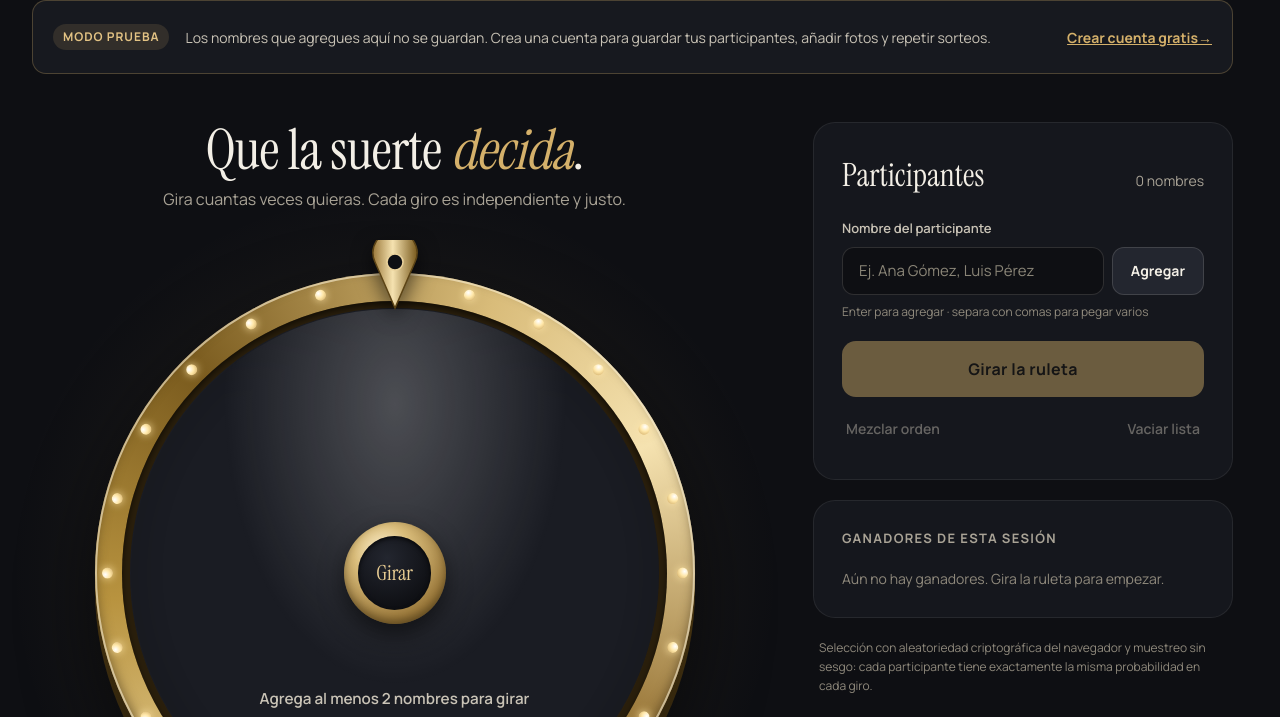
Test: Modo prueba (HU-01 a HU-04) › agrega varios nombres con Enter, limpia el campo y conserva el foco
This screenshot has width=1280, height=717.
In the field labelled "Nombre del participante": {"x": 973, "y": 270} [842,246,1104,294], type "Ana, Luis, Camila"
Then press Enter
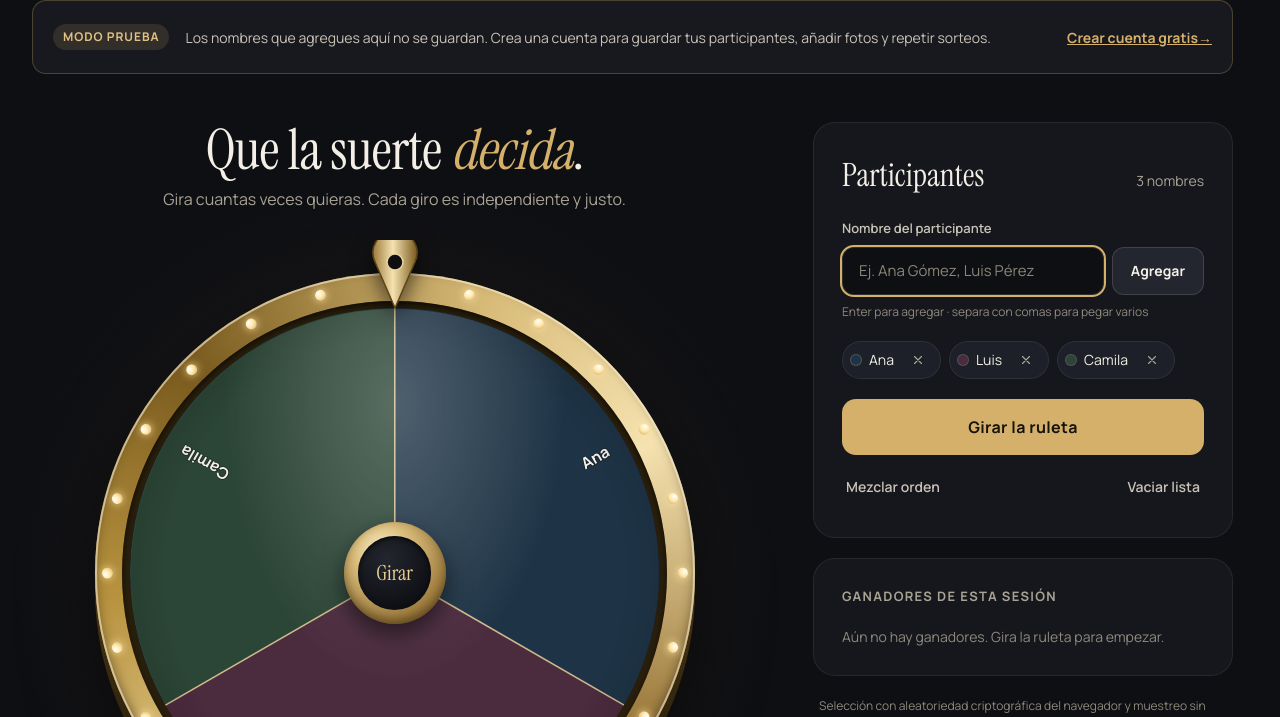
Check: the list items read "Ana", "Luis", "Camila", in this order, box [842,340,941,378]; [949,340,1049,378]; [1057,340,1175,378]
Check: the text "3 nombres" is shown, box [1136,170,1204,191]
